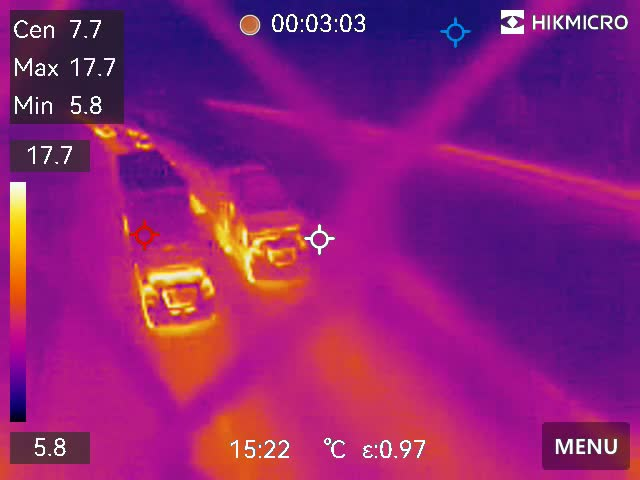heavyTruck: (105, 151, 221, 333), (208, 145, 319, 294)
